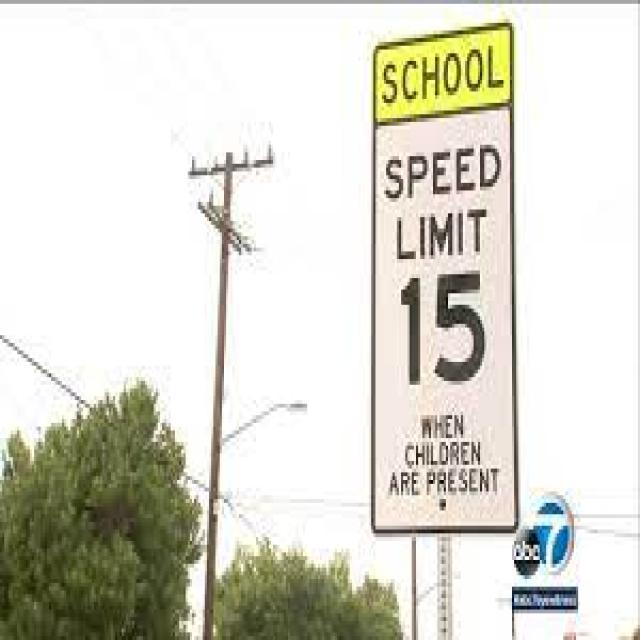speedLimit15: (365, 95, 527, 400)
